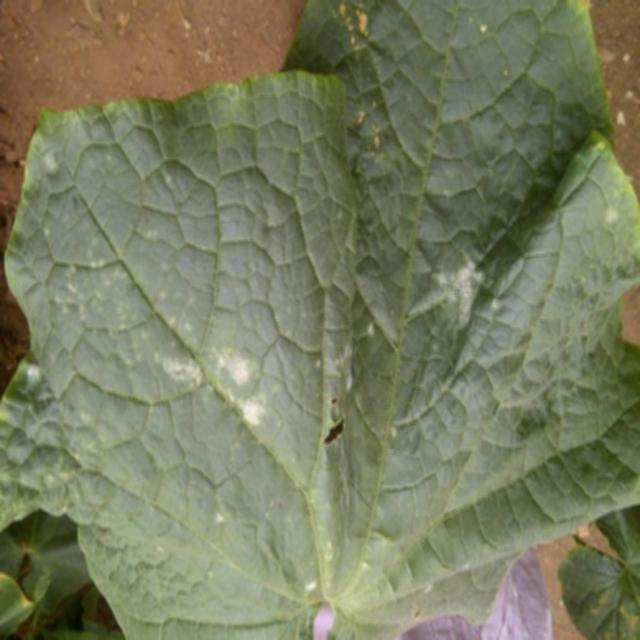Powdery Mildew: (188, 197, 528, 484)
